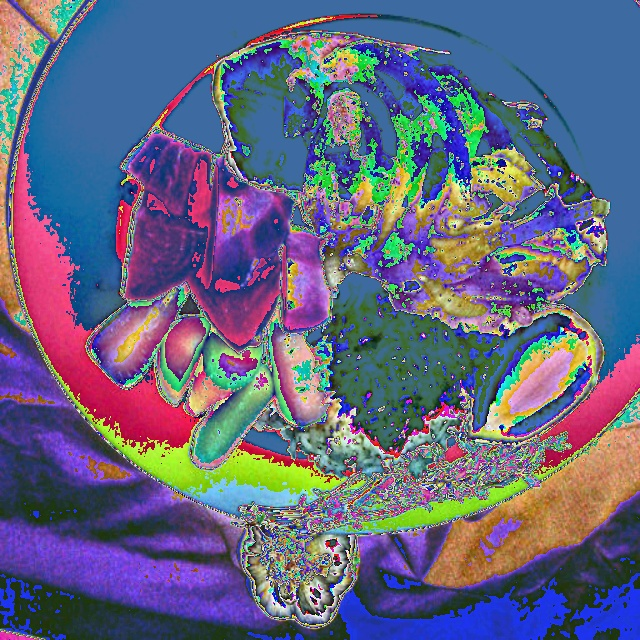background: (88, 33, 612, 480), (121, 106, 359, 629)
